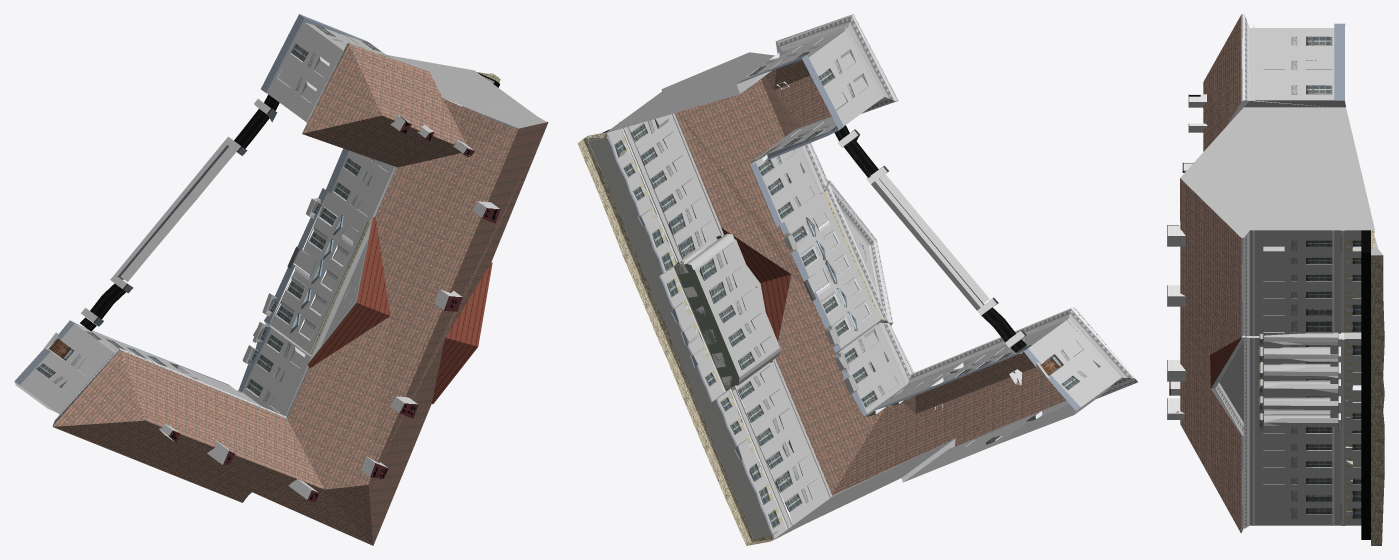
Rendered from Kohtu_8-origo.obj.
3 views of the same model, side by side, from view 1: azimuth 30°, elevation 25°; view 2: azimuth 150°, elevation 25°; view 3: azimuth 270°, elevation 25° (orthographic). The views are drawn at different scales.
Parts seen in each view (by area): view 1: Kohtu_8; view 2: Kohtu_8; view 3: Kohtu_8.
Boxes of the visible parts, x1,y1,x2,y2 form: Kohtu_8: [14, 14, 548, 545]; Kohtu_8: [577, 14, 1137, 545]; Kohtu_8: [1167, 14, 1384, 545].
Bounding box in the file's own units: 61.31 × 58.5 × 22.55.
